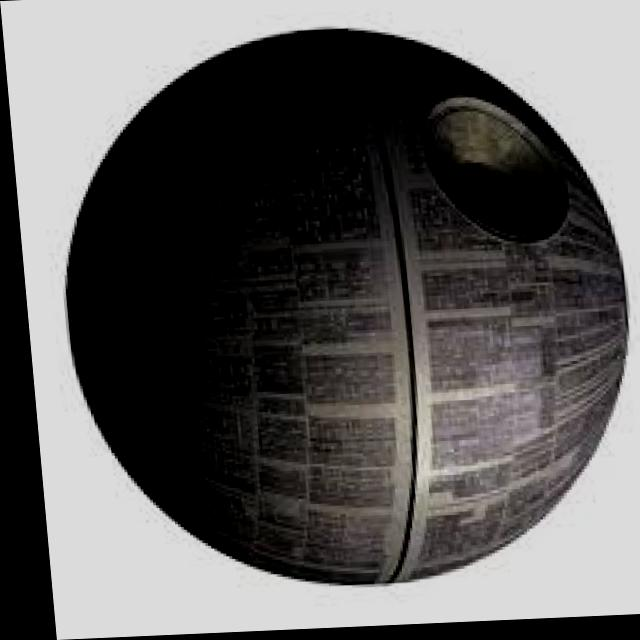deathStar: (45, 22, 638, 593)
